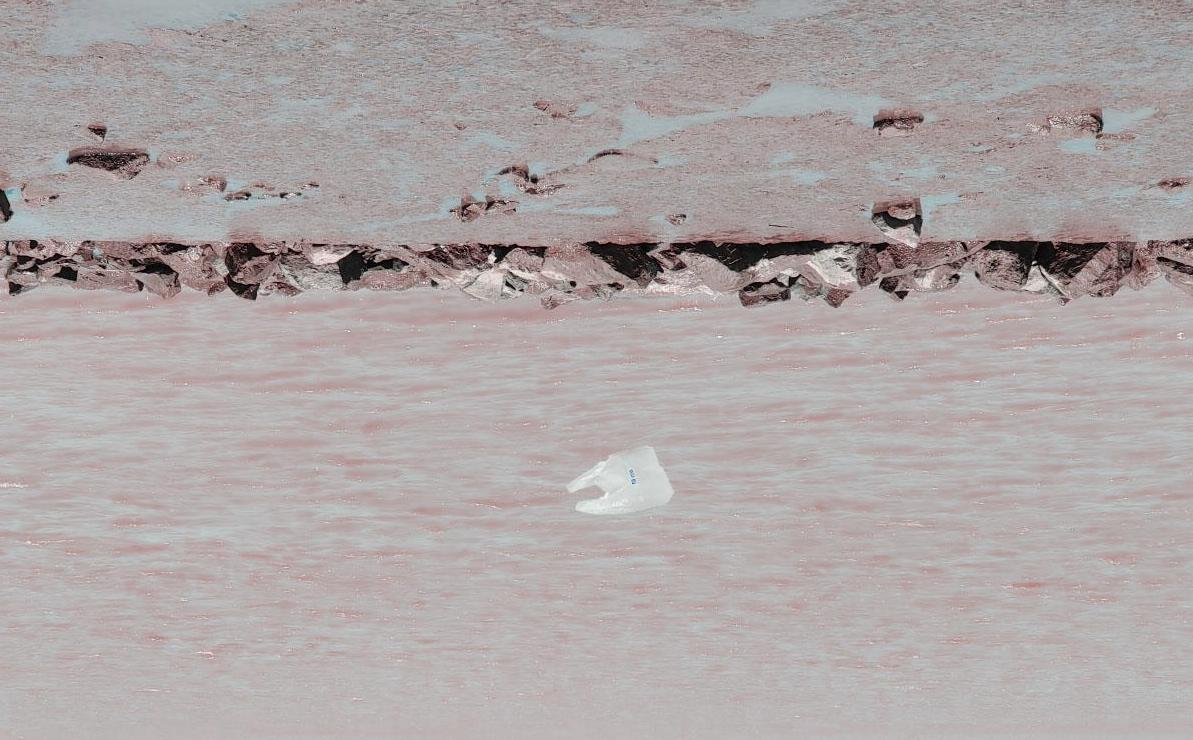Trash: (564, 438, 678, 519)
